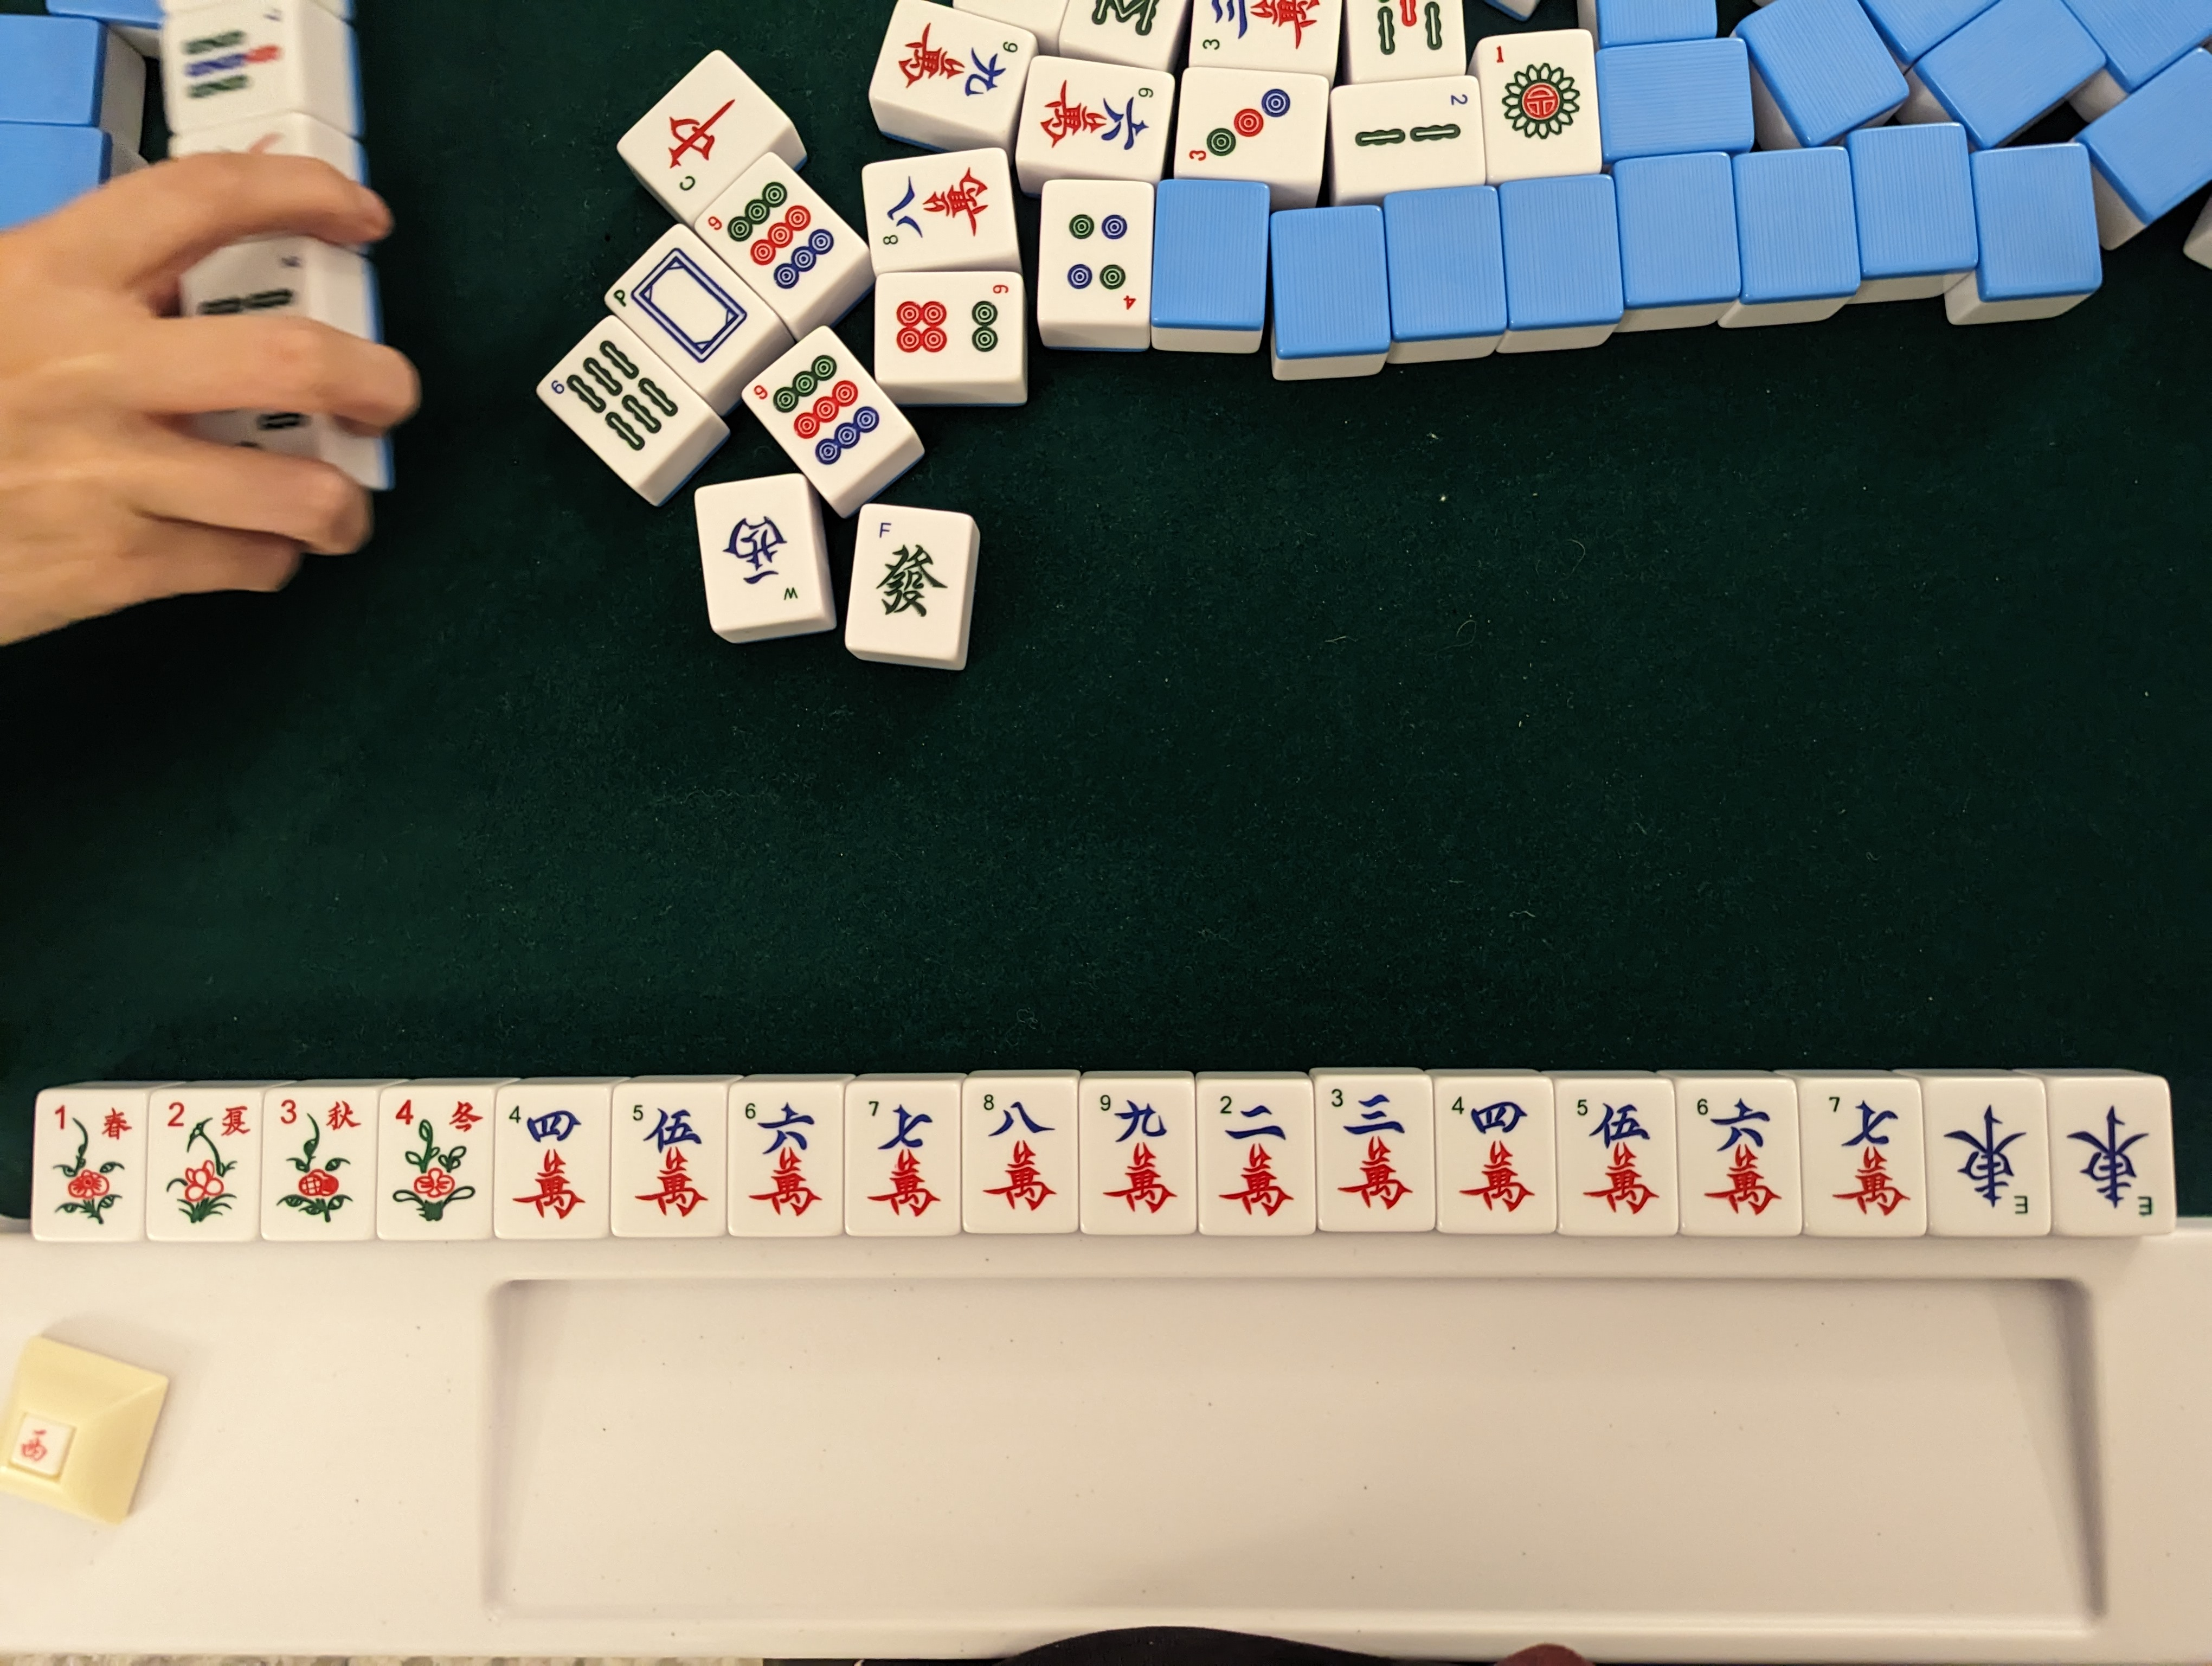character-eight: (963, 1081, 1074, 1232)
character-five: (616, 1089, 724, 1234), (1567, 1083, 1666, 1230)
character-four: (497, 1090, 610, 1239), (1439, 1081, 1549, 1230)
character-nine: (1082, 1083, 1193, 1234)
character-seven: (1806, 1083, 1920, 1234), (845, 1085, 956, 1232)
character-six: (729, 1083, 839, 1232), (1684, 1081, 1792, 1230)
character-three: (1320, 1078, 1430, 1229)
character-two: (1201, 1085, 1310, 1234)
flower-red_four: (378, 1090, 490, 1239)
flower-red_one: (40, 1092, 142, 1237)
flower-red_three: (264, 1090, 374, 1237)
flower-red_two: (149, 1094, 261, 1241)
honor-east_wind: (1934, 1085, 2042, 1236), (2060, 1083, 2165, 1232)
